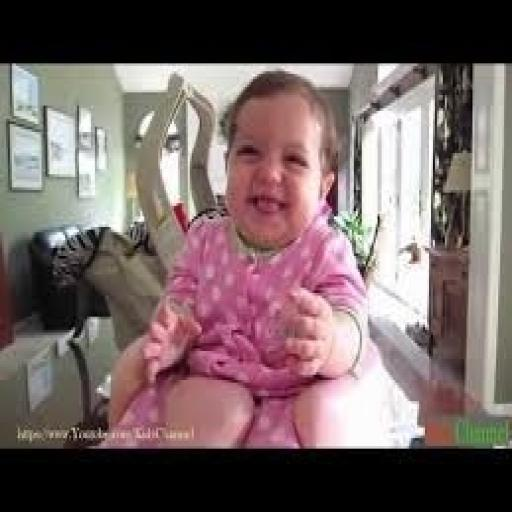laughing: (102, 66, 378, 446)
